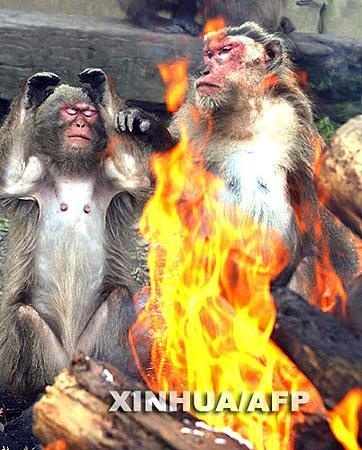fire: (127, 99, 313, 424), (31, 362, 117, 449)
